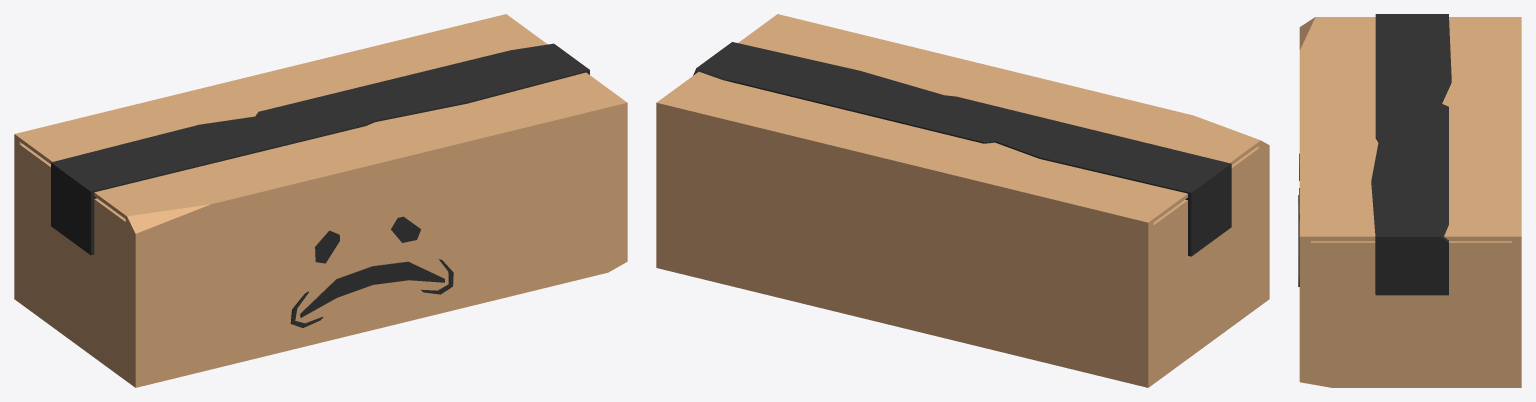
The model's file is SM_Box_Closed_Med.fbx.
3 views of the same model, side by side, from view 1: azimuth 30°, elevation 25°; view 2: azimuth 150°, elevation 25°; view 3: azimuth 270°, elevation 25° (orthographic). The views are drawn at different scales.
Visible parts, largest first — view 1: Box_Closed_Med; view 2: Box_Closed_Med; view 3: Box_Closed_Med.
Boxes of the visible parts, x1,y1,x2,y2 form: Box_Closed_Med: [14, 14, 627, 387]; Box_Closed_Med: [656, 14, 1269, 387]; Box_Closed_Med: [1298, 14, 1521, 387].
Bounding box in the file's own units: 162 × 51.78 × 68.65.
